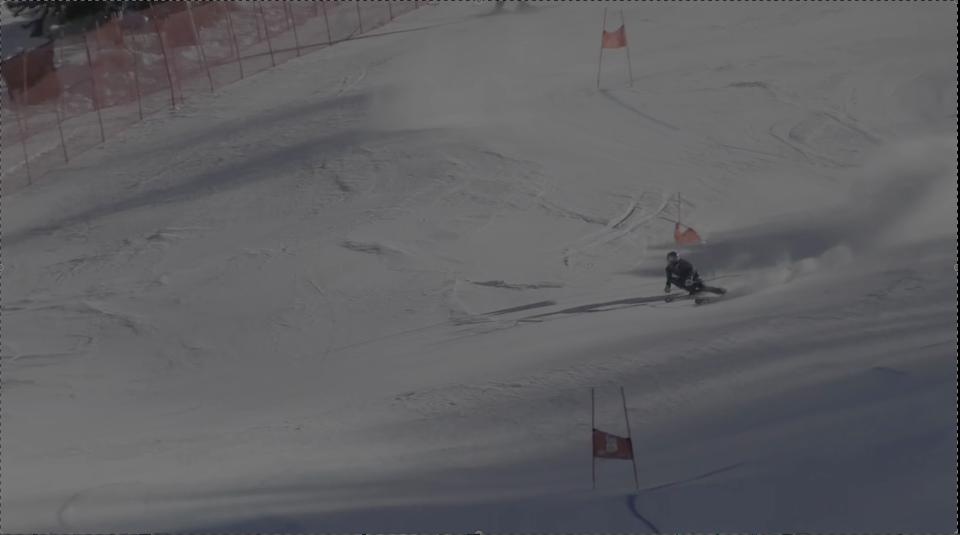gate: (619, 383, 660, 502), (572, 369, 604, 499)
